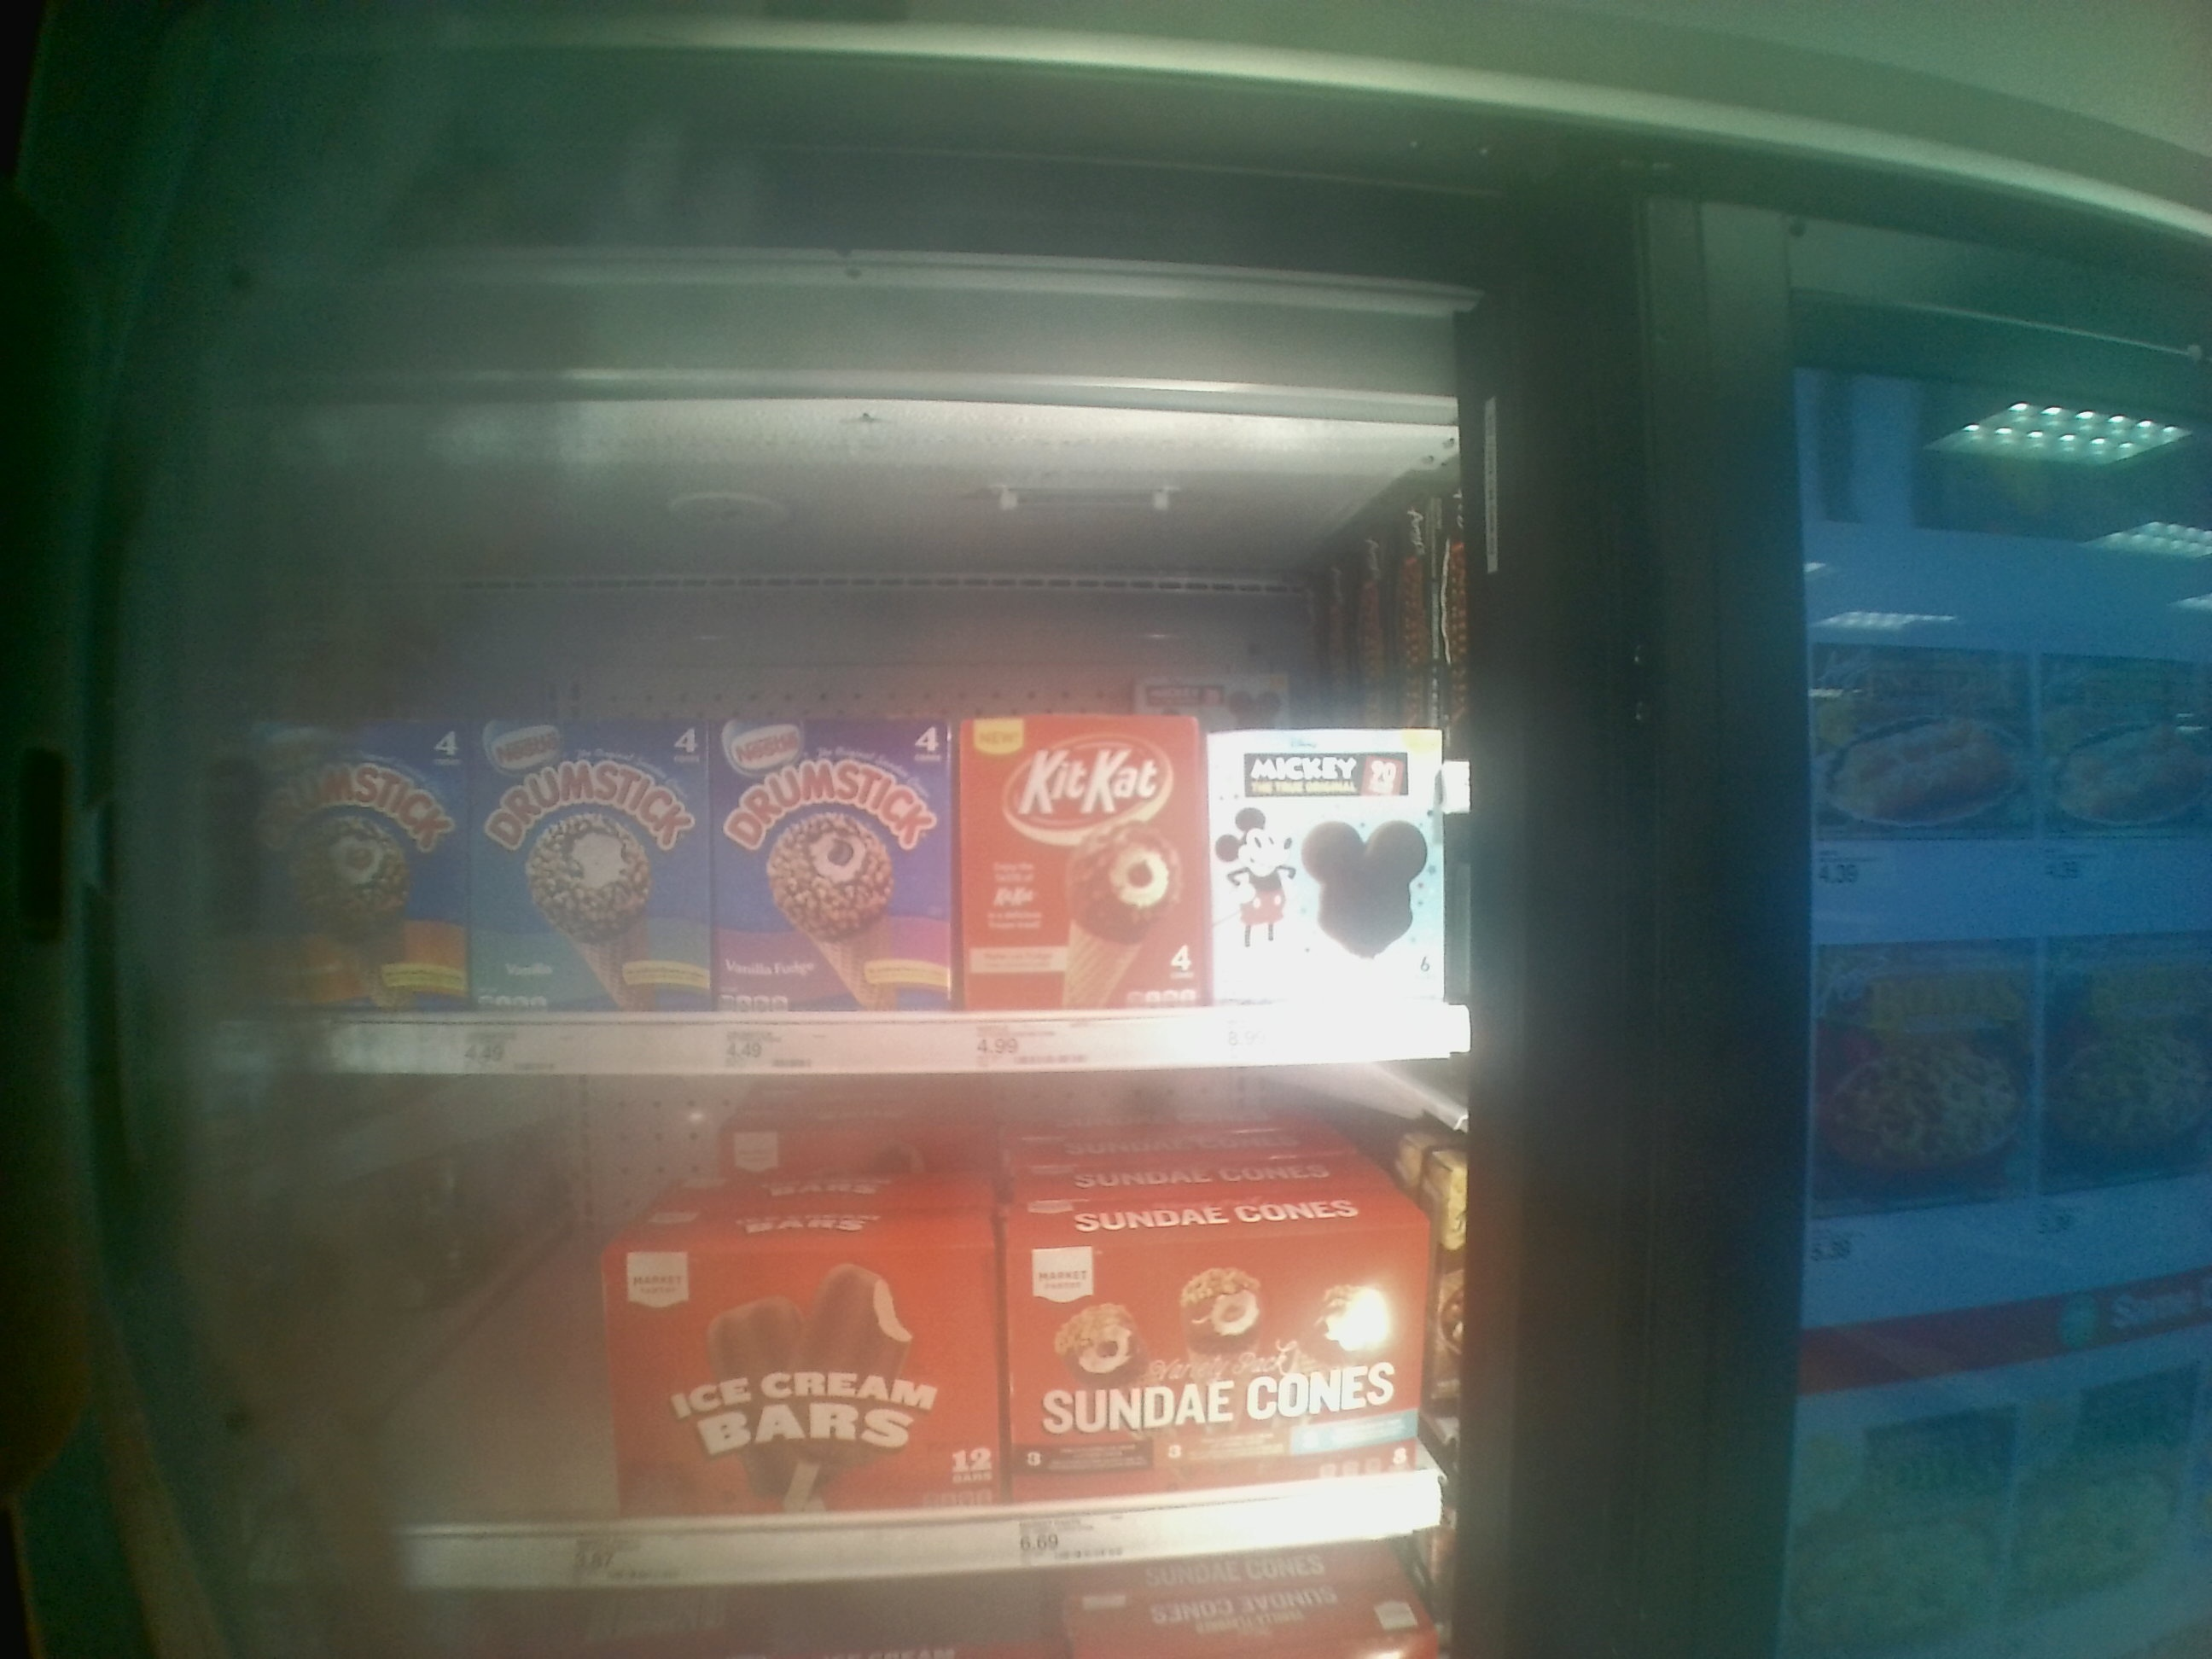frozen-food-shelf: (164, 448, 1489, 1086), (164, 1086, 1498, 1600)
